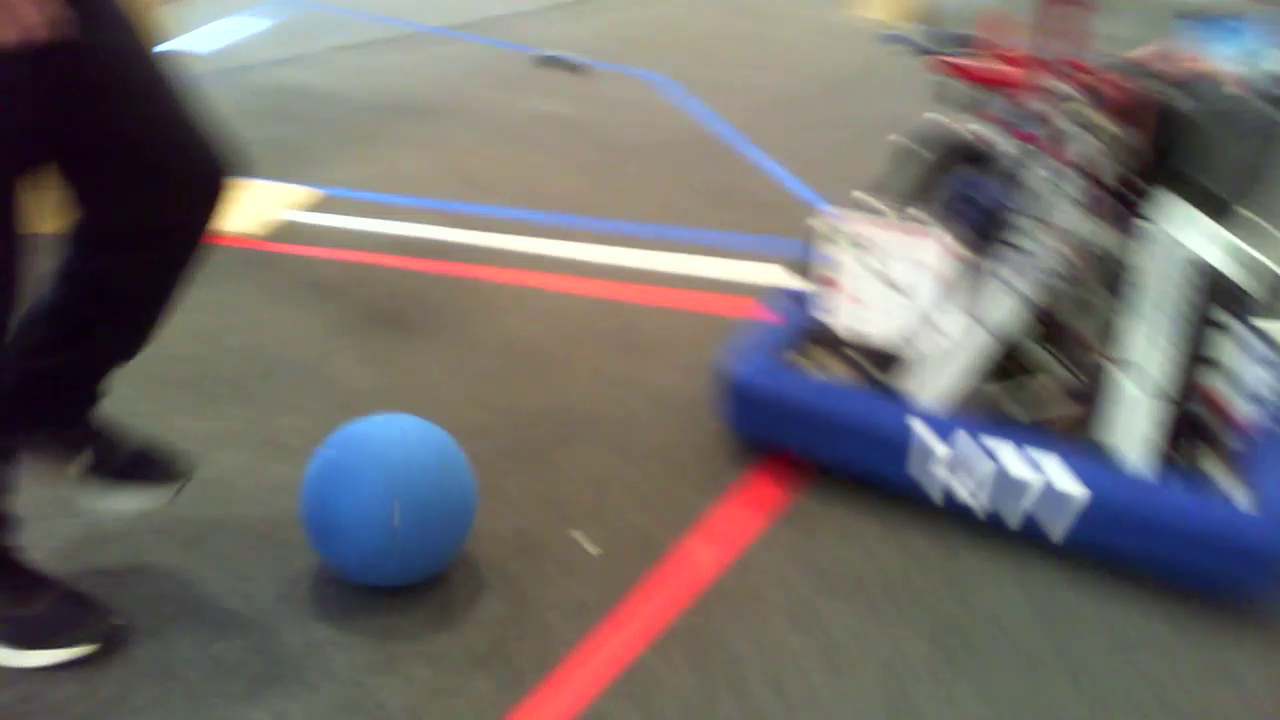blue_cargo: (298, 412, 491, 572)
blue_robot: (714, 51, 1270, 639)
